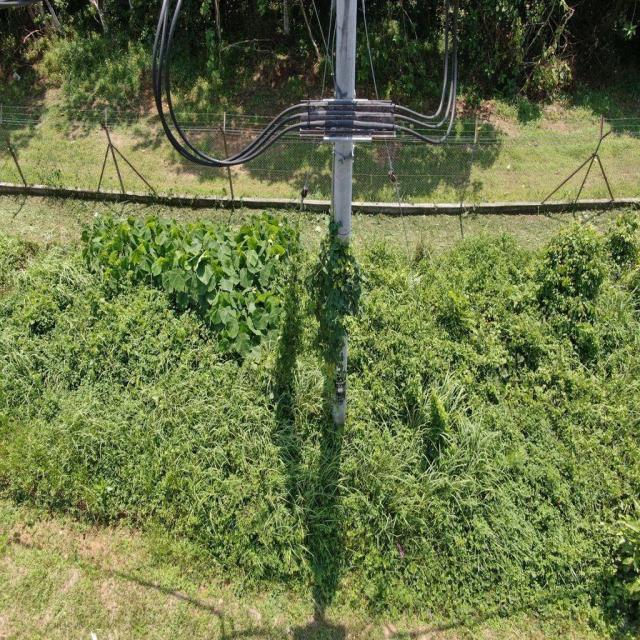critical vegetation: (267, 217, 368, 430)
